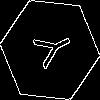Y: (25, 25, 75, 74)
